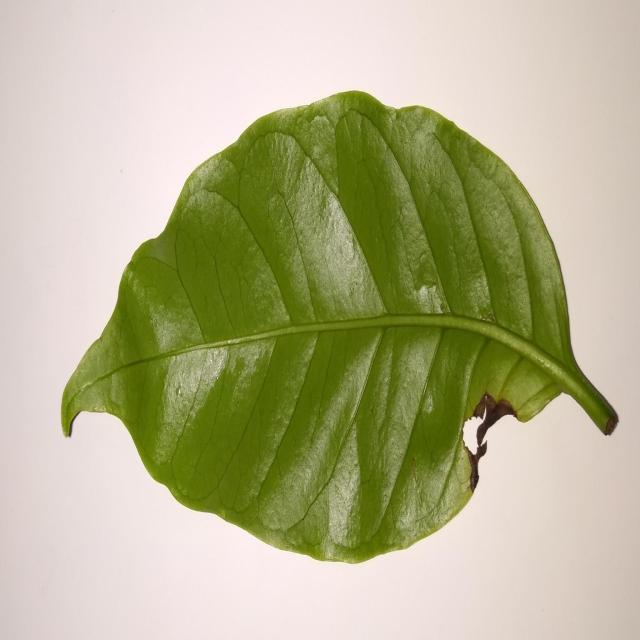Enfermedad-Antracnosis: (59, 92, 620, 567)
